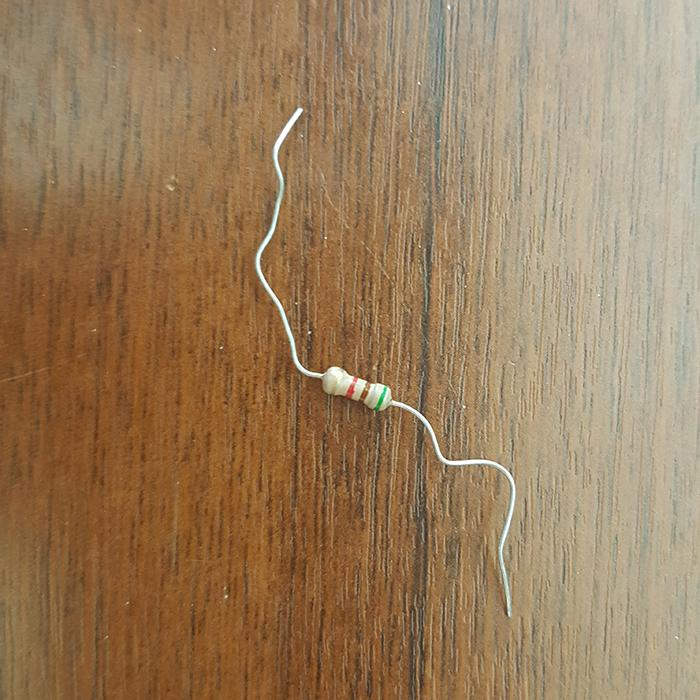resistor: (321, 365, 391, 411)
